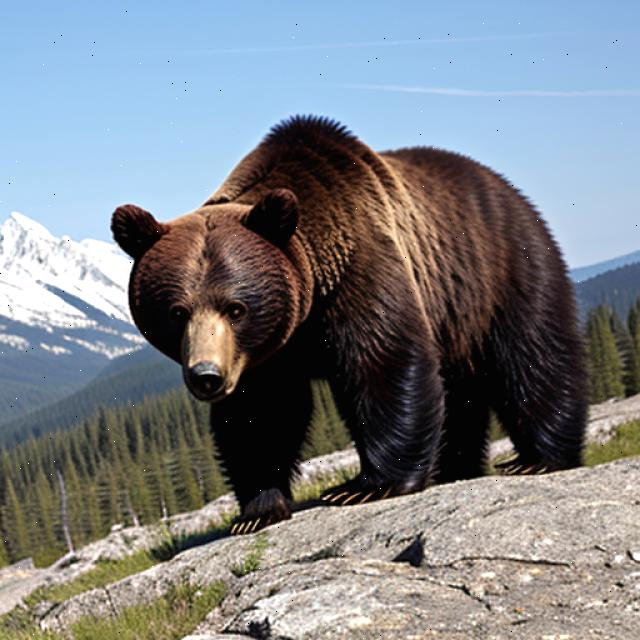bear: (108, 173, 329, 403)
